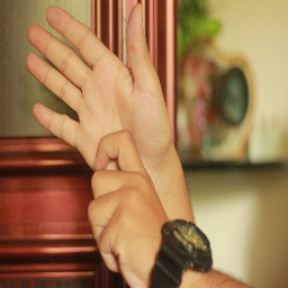R: (21, 4, 177, 276)
